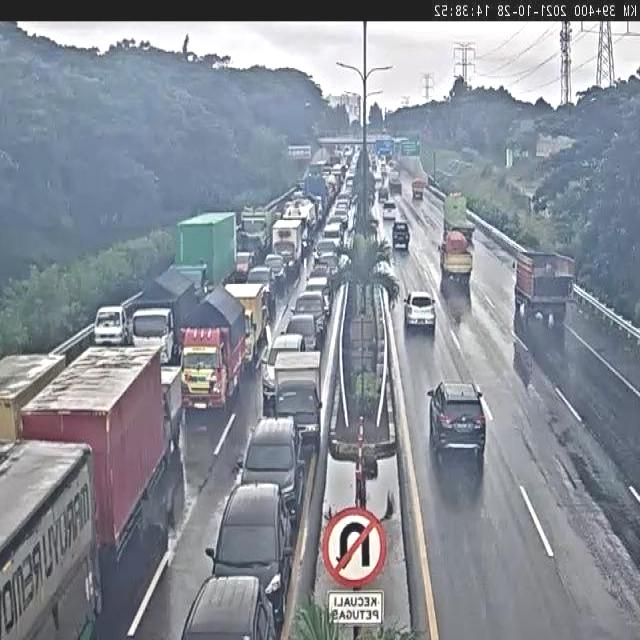Car: (212, 485, 287, 590), (428, 370, 492, 463), (236, 416, 300, 499), (189, 580, 266, 640), (267, 333, 304, 394), (402, 287, 442, 336), (383, 216, 416, 260), (284, 314, 320, 354), (293, 298, 330, 326), (380, 199, 399, 223)
Truck: (34, 352, 160, 520), (0, 436, 102, 640), (182, 288, 245, 407), (505, 243, 590, 331), (0, 344, 66, 433), (173, 212, 243, 290), (131, 267, 191, 353), (268, 353, 324, 438), (213, 282, 269, 361), (433, 227, 482, 291), (152, 360, 190, 441), (92, 298, 129, 348), (435, 190, 474, 236), (270, 218, 305, 268), (388, 169, 407, 199), (408, 176, 428, 199)
